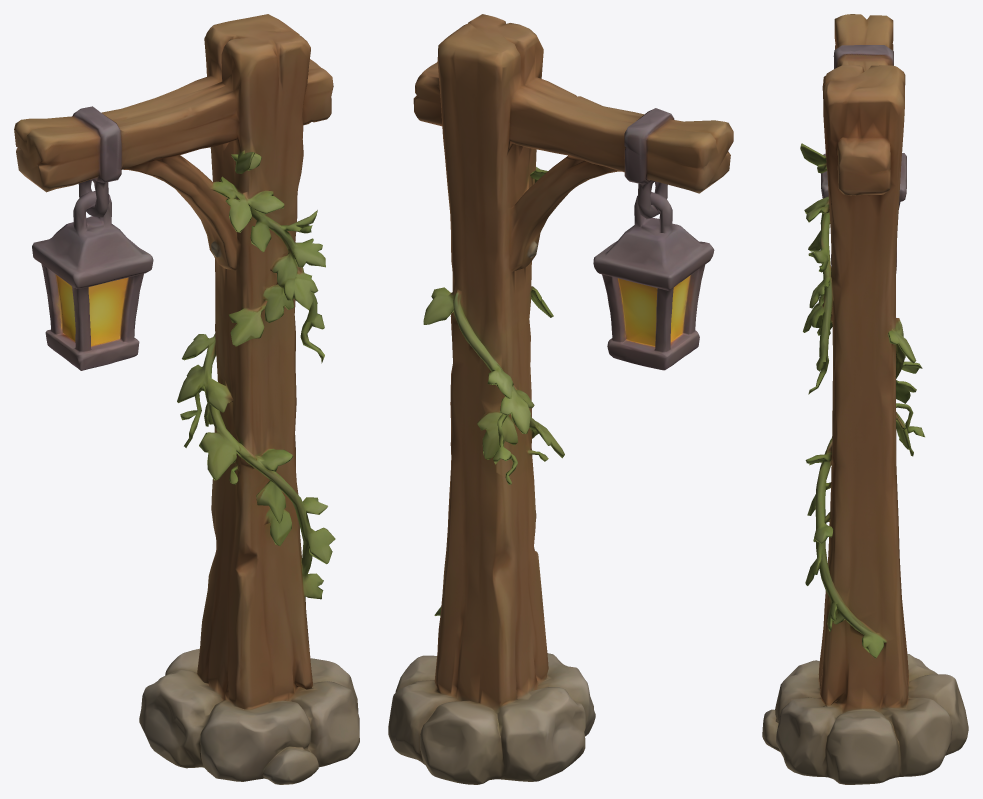
The model's file is lantern_post.glb.
The picture shows the model from 3 angles, left to right: view 1: azimuth 30°, elevation 25°; view 2: azimuth 150°, elevation 25°; view 3: azimuth 270°, elevation 25°; orthographic projection. The views are drawn at different scales.
Parts seen in each view (by area): view 1: tripo_node_29c1fb96-a85a-4ab9-baab-7dfd49d26bbb; view 2: tripo_node_29c1fb96-a85a-4ab9-baab-7dfd49d26bbb; view 3: tripo_node_29c1fb96-a85a-4ab9-baab-7dfd49d26bbb.
Boxes of the visible parts, x1=… form: tripo_node_29c1fb96-a85a-4ab9-baab-7dfd49d26bbb: x1=14, y1=14, x2=359, y2=784; tripo_node_29c1fb96-a85a-4ab9-baab-7dfd49d26bbb: x1=388, y1=14, x2=733, y2=784; tripo_node_29c1fb96-a85a-4ab9-baab-7dfd49d26bbb: x1=762, y1=14, x2=968, y2=784.
Size of the model in its own units: 0.4644 by 0.9804 by 0.274.
1 material, 1 textured.
